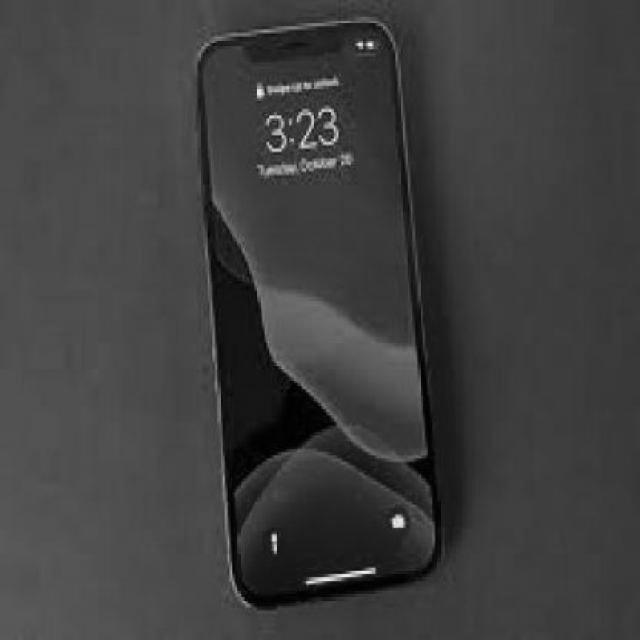fake: (194, 20, 442, 611)
